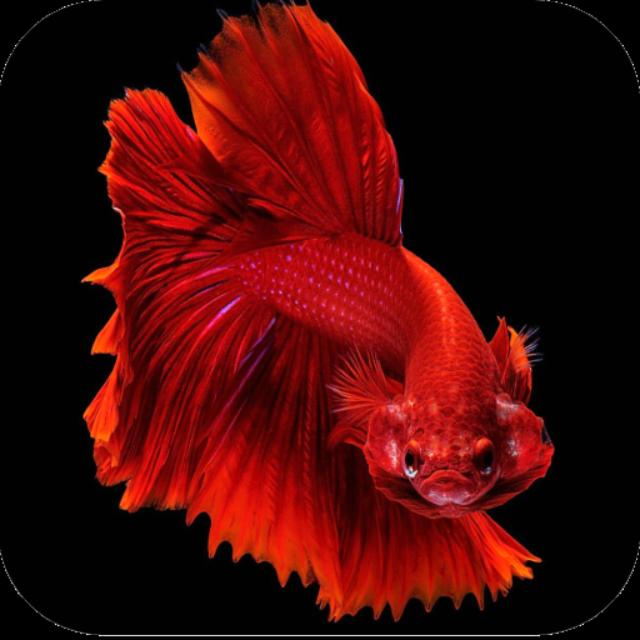Mulut: (400, 448, 492, 526)
